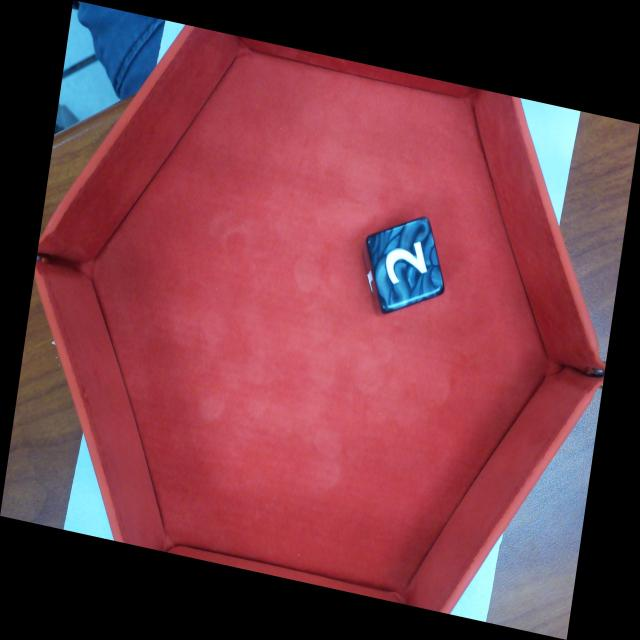dice: (365, 216, 445, 315)
